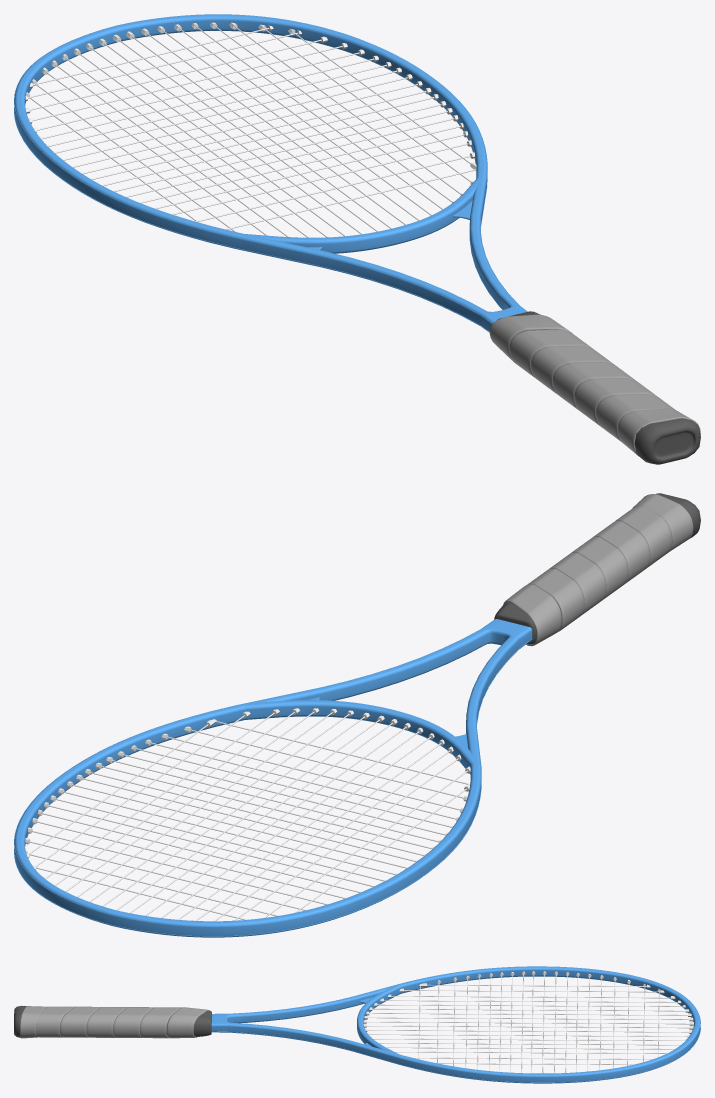
3 views of the same model, one above another, from view 1: azimuth 30°, elevation 25°; view 2: azimuth 150°, elevation 25°; view 3: azimuth 270°, elevation 25° (orthographic). The views are drawn at different scales.
Parts seen in each view (by area): view 1: arch_v27_tennisballetc:Arch27_002_03, arch_v27_tennisballetc:Arch27_002_13, arch_v27_tennisballetc:Arch27_002_12, arch_v27_tennisballetc:Arch27_002_02; view 2: arch_v27_tennisballetc:Arch27_002_03, arch_v27_tennisballetc:Arch27_002_13, arch_v27_tennisballetc:Arch27_002_12, arch_v27_tennisballetc:Arch27_002_02; view 3: arch_v27_tennisballetc:Arch27_002_03, arch_v27_tennisballetc:Arch27_002_13, arch_v27_tennisballetc:Arch27_002_12, arch_v27_tennisballetc:Arch27_002_02.
Part boxes in pixels (<box>): arch_v27_tennisballetc:Arch27_002_03: <box>14,14,527,332</box>; arch_v27_tennisballetc:Arch27_002_13: <box>25,22,476,237</box>; arch_v27_tennisballetc:Arch27_002_12: <box>489,314,700,456</box>; arch_v27_tennisballetc:Arch27_002_02: <box>497,311,700,464</box>; arch_v27_tennisballetc:Arch27_002_03: <box>14,619,532,937</box>; arch_v27_tennisballetc:Arch27_002_13: <box>25,708,470,921</box>; arch_v27_tennisballetc:Arch27_002_12: <box>503,494,693,646</box>; arch_v27_tennisballetc:Arch27_002_02: <box>494,493,700,644</box>; arch_v27_tennisballetc:Arch27_002_03: <box>211,966,700,1083</box>; arch_v27_tennisballetc:Arch27_002_13: <box>363,971,693,1073</box>; arch_v27_tennisballetc:Arch27_002_12: <box>20,1006,210,1038</box>; arch_v27_tennisballetc:Arch27_002_02: <box>14,1005,211,1037</box>.
Bounding box in the file's own units: 9.82 × 1.02 × 25.93.
